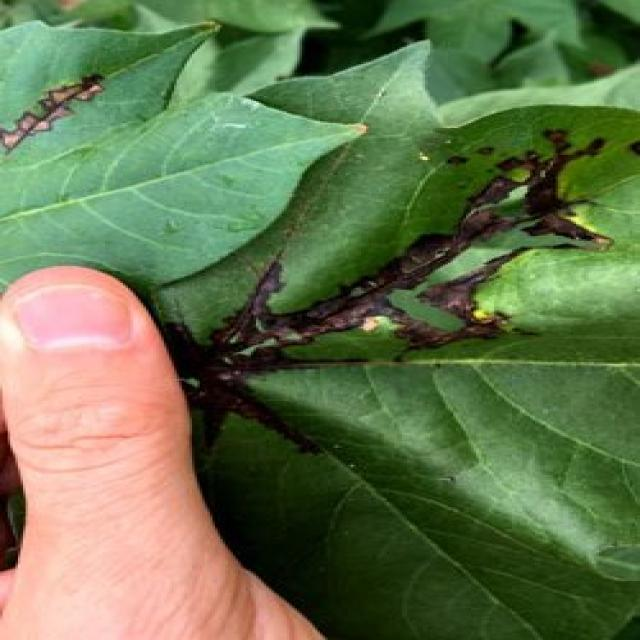Bacterial Blight: (187, 132, 640, 378)
